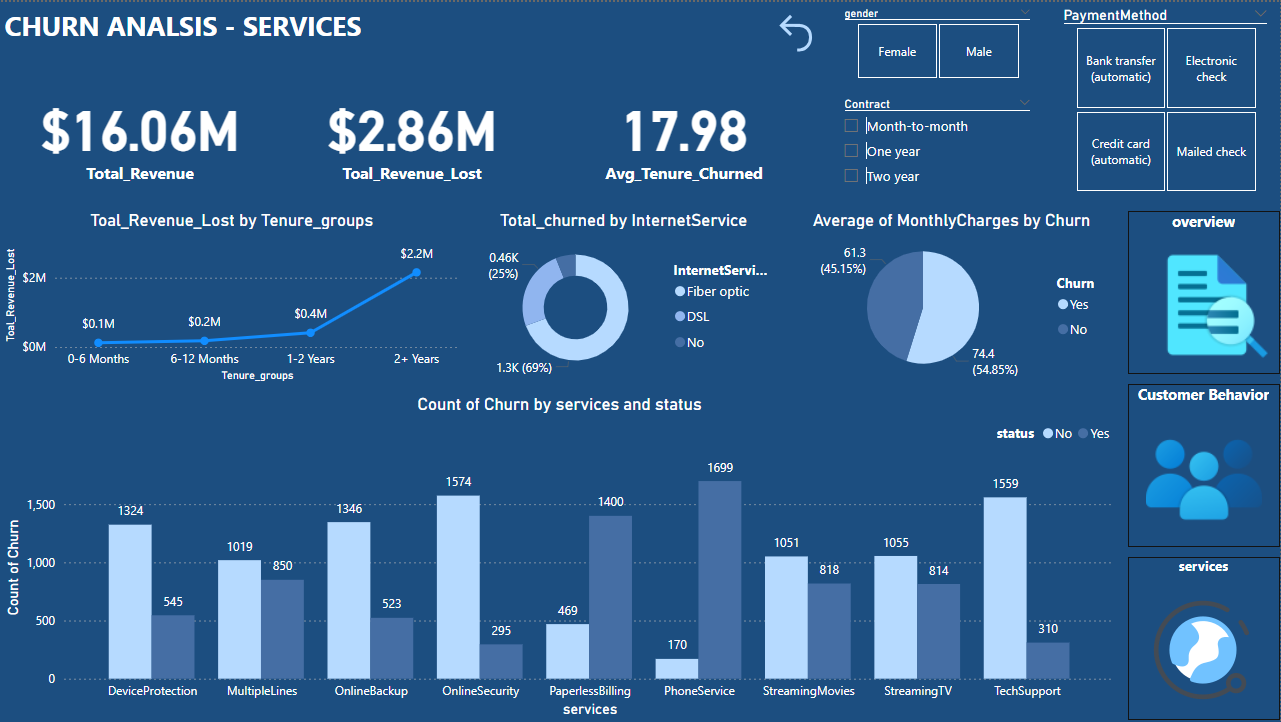

The page's visual inventory and layout, read from the dashboard file:
{"tool":"powerbi","page":{"name":"services","canvas":[1280,720],"ordinal":2},"visuals":[{"type":"slicer","fields":{"Values":["Customer_Churn.gender"]},"box":[832,0,211.2,82.9],"z":0,"group":"g1"},{"type":"card","fields":{"Values":["measures (2).Revenue"]},"box":[0,64,280,136],"z":0,"group":"g2"},{"type":"shape","box":[0,64,824,136],"z":0},{"type":"image","box":[1134.9,235.4,145.1,135.4],"z":0,"group":"g3"},{"type":"image","box":[1136,593,135,110],"z":500,"group":"g3"},{"type":"slicer","fields":{"Values":["Customer_Churn.PaymentMethod"]},"box":[1050.7,0,229.3,195.7],"z":1000,"group":"g1"},{"type":"card","fields":{"Values":["measures (2).Revenue_Lost"]},"box":[280,64,264,136],"z":1000,"group":"g2"},{"type":"lineChart","fields":{"Category":["Tenure_maping.Tenure_Buckets"],"Y":["measures (2).Revenue_Lost"]},"box":[0,208,464,176],"z":1000},{"type":"image","box":[1136.5,410.8,135.2,126.2],"z":1000,"group":"g3"},{"type":"card","fields":{"Values":["measures (2).Avg_Tenure_Churned"]},"box":[544,64,280,136],"z":2000,"group":"g2"},{"type":"slicer","fields":{"Values":["Customer_Churn.Contract"]},"box":[832,89.8,211.3,110.2],"z":2000,"group":"g1"},{"type":"pageNavigator","box":[1128,209,151.6,511],"z":2000,"group":"g3"},{"type":"clusteredColumnChart","fields":{"Category":["Customer_services.services"],"Series":["Customer_services.status"],"Y":["CountNonNull(Customer_services.Churn)"]},"box":[0,392,1120,328],"z":2000},{"type":"donutChart","fields":{"Y":["measures (2).Total_churned"],"Category":["Customer_Churn.InternetService"]},"box":[472,208,304,176],"z":3000},{"type":"textbox","box":[0,0,544,56],"z":4000},{"type":"group","id":"g1","title":"Group 2","box":[832,0,448,200],"z":5000},{"type":"actionButton","box":[767,7,59,44],"z":6000},{"type":"pieChart","fields":{"Category":["Customer_Churn.Churn"],"Y":["Avg(Customer_Churn.MonthlyCharges)"]},"box":[784,208,336,176],"z":7000},{"type":"group","id":"g2","title":"Group 3","box":[0,64,824,136],"z":8000},{"type":"group","id":"g3","title":"Group 1","box":[1128,209,152,511],"z":9000}]}

Visuals, with their boxes in screenshot pixels (x1, y1, x2, y2), scaled from the page's 1280x720 canvas onto the 1281x722 screenshot:
slicer - Customer_Churn.gender: pyautogui.locateOnScreen(833, 0, 1044, 83)
card - measures (2).Revenue: pyautogui.locateOnScreen(0, 64, 280, 201)
shape: pyautogui.locateOnScreen(0, 64, 825, 201)
image: pyautogui.locateOnScreen(1136, 236, 1280, 372)
image: pyautogui.locateOnScreen(1137, 595, 1272, 705)
slicer - Customer_Churn.PaymentMethod: pyautogui.locateOnScreen(1052, 0, 1280, 196)
card - measures (2).Revenue_Lost: pyautogui.locateOnScreen(280, 64, 544, 201)
lineChart - Tenure_maping.Tenure_Buckets x measures (2).Revenue_Lost: pyautogui.locateOnScreen(0, 209, 464, 385)
image: pyautogui.locateOnScreen(1137, 412, 1273, 538)
card - measures (2).Avg_Tenure_Churned: pyautogui.locateOnScreen(544, 64, 825, 201)
slicer - Customer_Churn.Contract: pyautogui.locateOnScreen(833, 90, 1044, 201)
pageNavigator: pyautogui.locateOnScreen(1129, 210, 1280, 721)
clusteredColumnChart - Customer_services.services x Customer_services.status: pyautogui.locateOnScreen(0, 393, 1121, 721)
donutChart - measures (2).Total_churned x Customer_Churn.InternetService: pyautogui.locateOnScreen(472, 209, 777, 385)
textbox: pyautogui.locateOnScreen(0, 0, 544, 56)
"Group 2" group: pyautogui.locateOnScreen(833, 0, 1280, 201)
actionButton: pyautogui.locateOnScreen(768, 7, 827, 51)
pieChart - Customer_Churn.Churn x Avg(Customer_Churn.MonthlyCharges): pyautogui.locateOnScreen(785, 209, 1121, 385)
"Group 3" group: pyautogui.locateOnScreen(0, 64, 825, 201)
"Group 1" group: pyautogui.locateOnScreen(1129, 210, 1280, 721)
